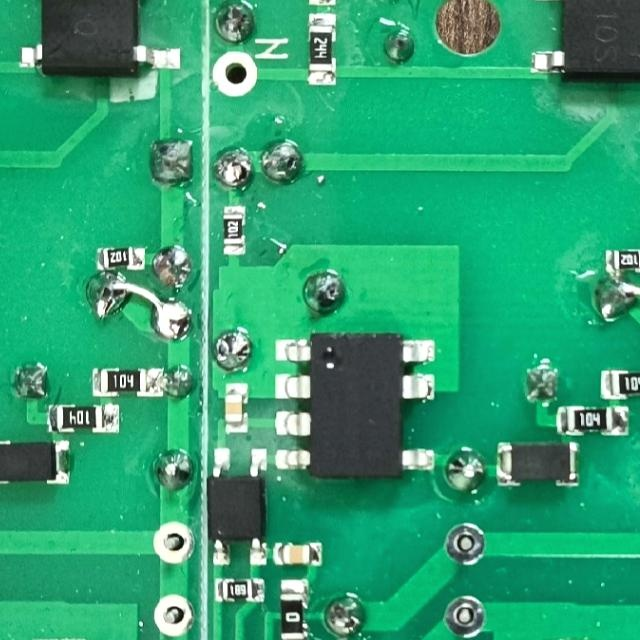chip-capacitor: (271, 540, 323, 566), (224, 381, 248, 435)
chip-resistor: (42, 402, 122, 435), (305, 12, 338, 89), (89, 365, 164, 398), (554, 404, 629, 436), (278, 577, 309, 640), (211, 576, 266, 604), (94, 243, 147, 272), (220, 203, 248, 257), (598, 369, 640, 400), (603, 247, 640, 275)
diode: (495, 439, 581, 489), (0, 438, 71, 486)
ic: (272, 332, 436, 480), (13, 0, 185, 79), (528, 0, 640, 80), (205, 446, 268, 569)
